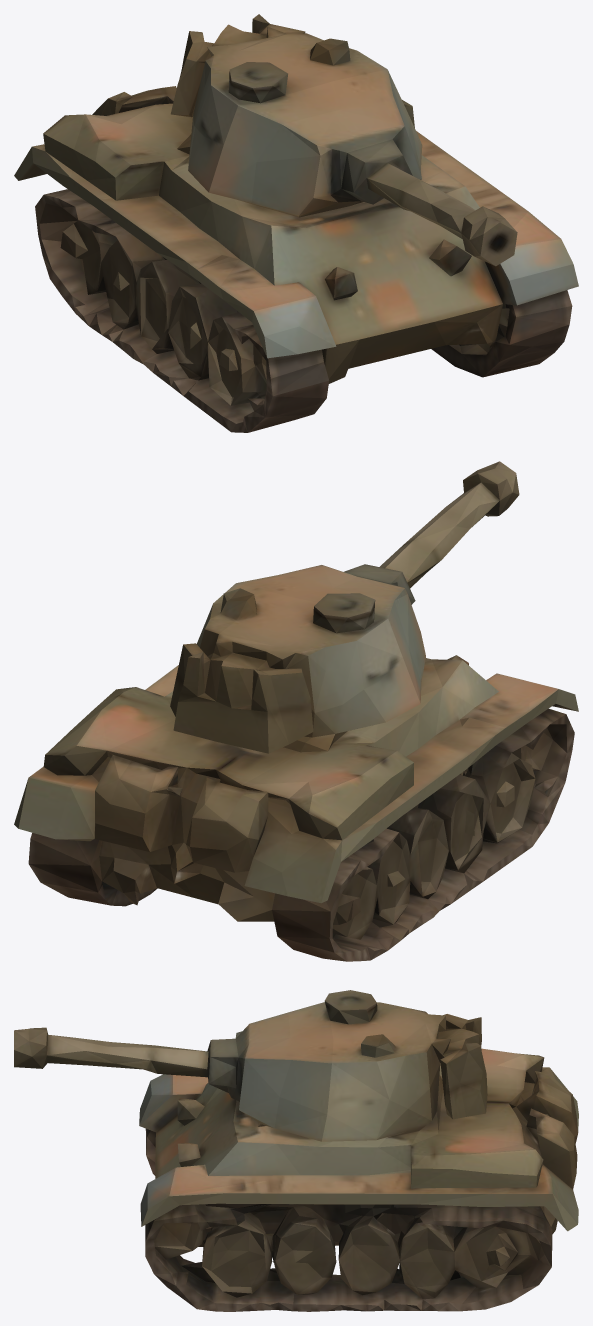
File: tanqueII.glb
3 views of the same model, one above another, from view 1: azimuth 30°, elevation 25°; view 2: azimuth 150°, elevation 25°; view 3: azimuth 270°, elevation 25° (orthographic). The views are drawn at different scales.
Visible parts, largest first — view 1: geometry_0; view 2: geometry_0; view 3: geometry_0.
Boxes of the visible parts, left/top/right/bottom form: geometry_0: left=14, top=14, right=578, bottom=432; geometry_0: left=14, top=461, right=578, bottom=961; geometry_0: left=14, top=990, right=578, bottom=1311.
Bounding box in the file's own units: 2.72 × 2.28 × 5.01.
Materials: 1 (1 with a texture image).
